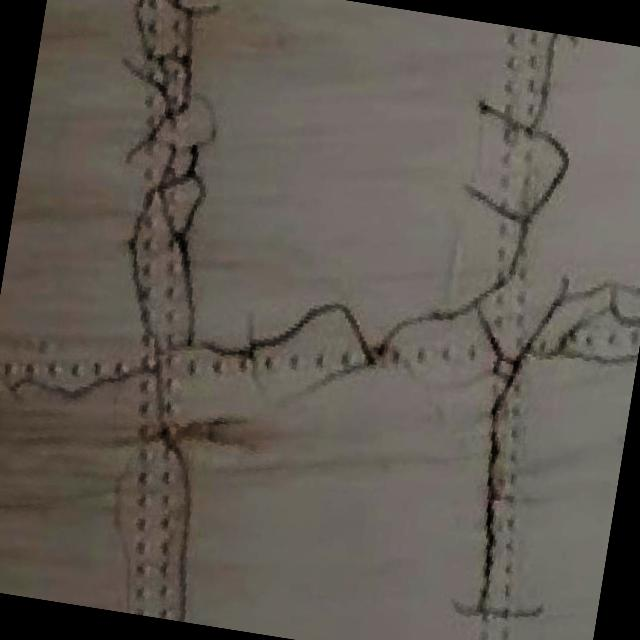crack: (0, 184, 640, 497), (34, 0, 286, 616), (398, 25, 632, 635)
